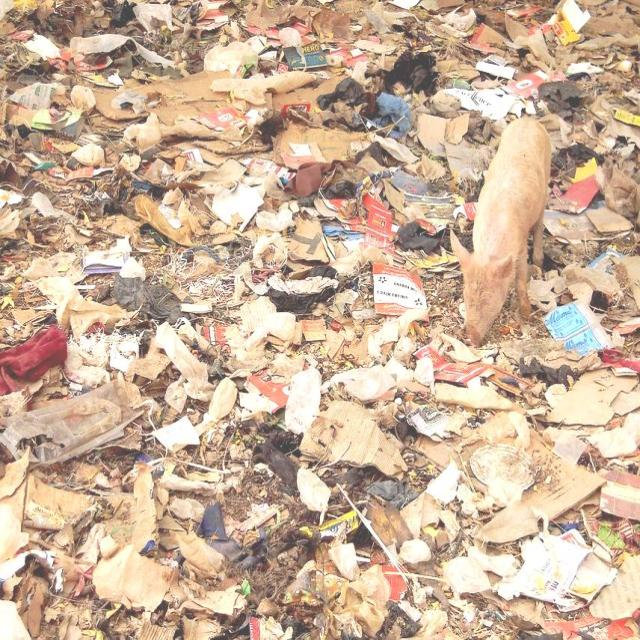pig: (450, 120, 551, 344)
